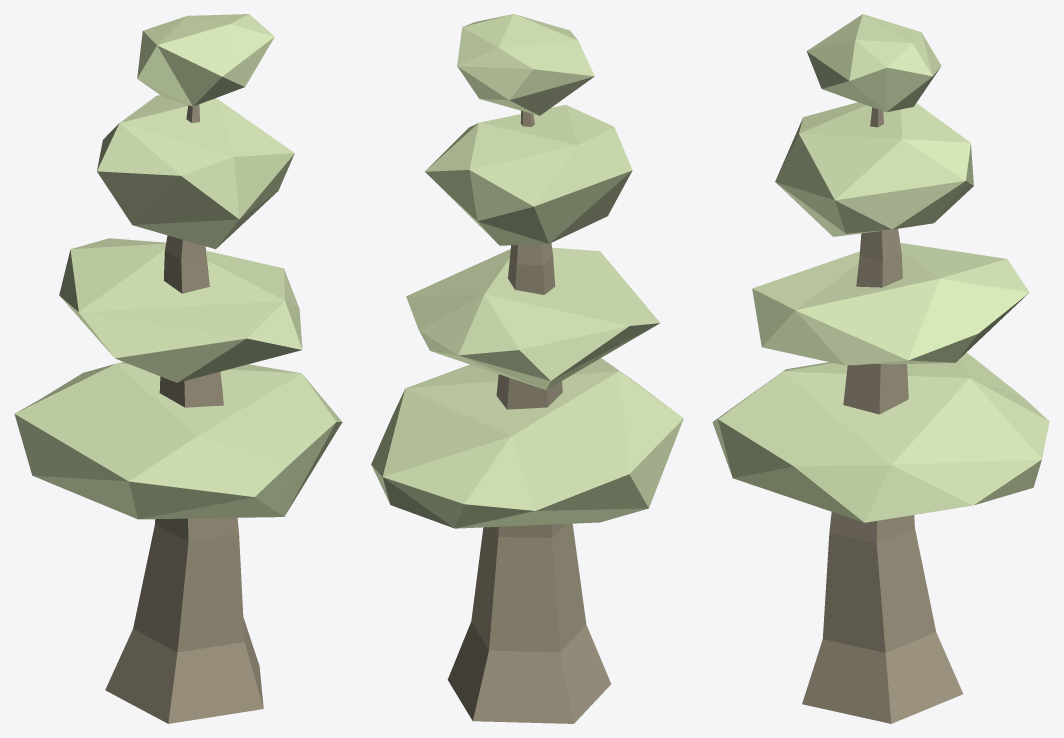
File: Low_Poly_Tree_002Light2.fbx
3 views of the same model, side by side, from view 1: azimuth 30°, elevation 25°; view 2: azimuth 150°, elevation 25°; view 3: azimuth 270°, elevation 25° (orthographic).
Visible parts, largest first — view 1: Low_Poly_Tree_002; view 2: Low_Poly_Tree_002; view 3: Low_Poly_Tree_002.
Part boxes in pixels (x1,y1,x2,y2): Low_Poly_Tree_002: [14, 14, 342, 723]; Low_Poly_Tree_002: [371, 14, 683, 723]; Low_Poly_Tree_002: [712, 14, 1049, 723].
Bounding box in the file's own units: 489 × 1096 × 507.
